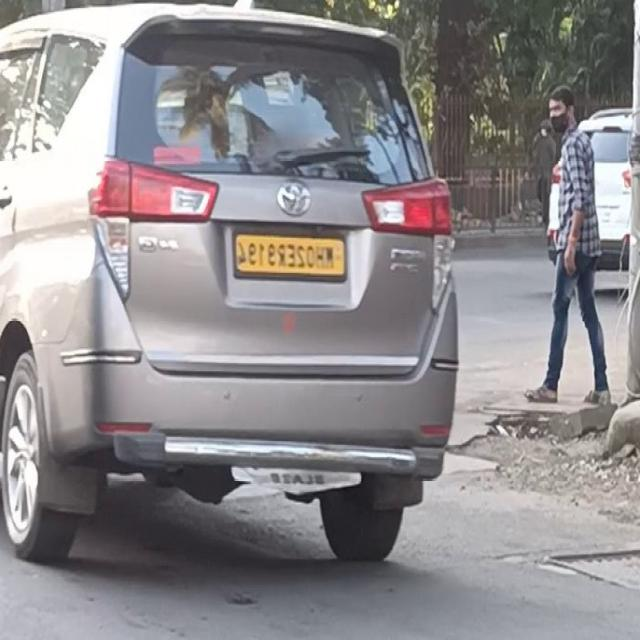license_plate: (228, 219, 352, 292)
